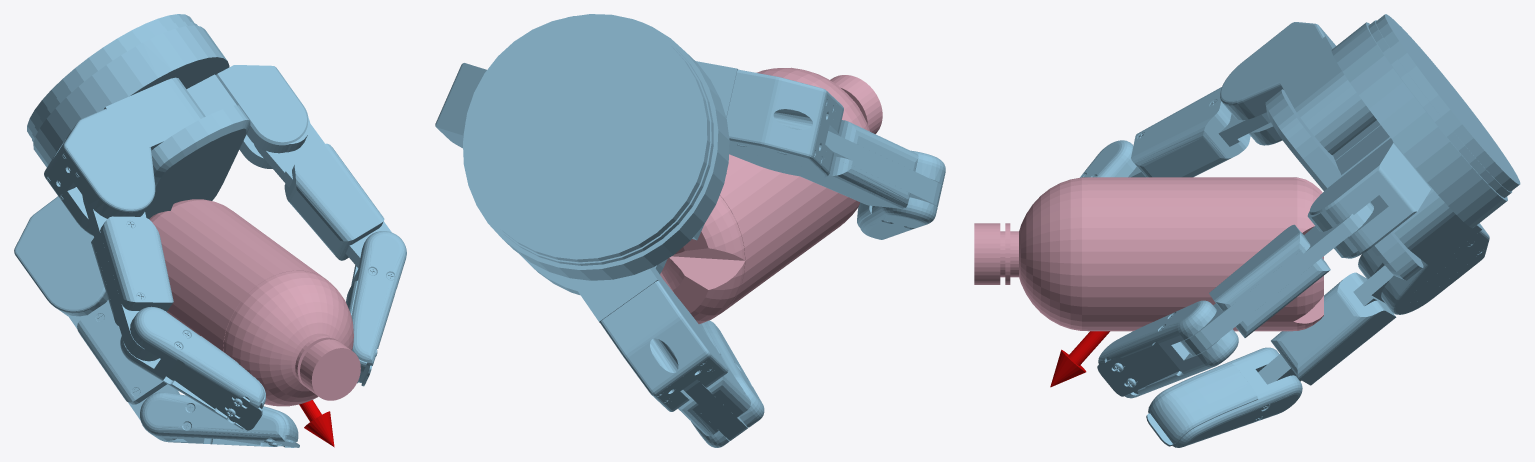
3 views of the same model, side by side, from view 1: azimuth 30°, elevation 25°; view 2: azimuth 150°, elevation 25°; view 3: azimuth 270°, elevation 25° (orthographic). The views are drawn at different scales.
Visible parts, largest first — view 1: world, water_bottle.stl; view 2: world, water_bottle.stl; view 3: world, water_bottle.stl.
Part boxes in pixels (x1,y1,x2,y2): world: [14, 14, 406, 447]; water_bottle.stl: [149, 199, 360, 406]; world: [435, 14, 945, 447]; water_bottle.stl: [660, 67, 882, 323]; world: [1050, 14, 1520, 447]; water_bottle.stl: [974, 177, 1323, 331].
Size of the model in its own units: 0.1526 by 0.1747 by 0.2132.
